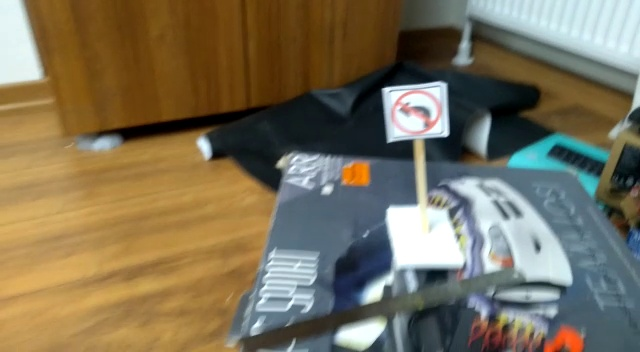sola_donulmez: (391, 86, 444, 137)
